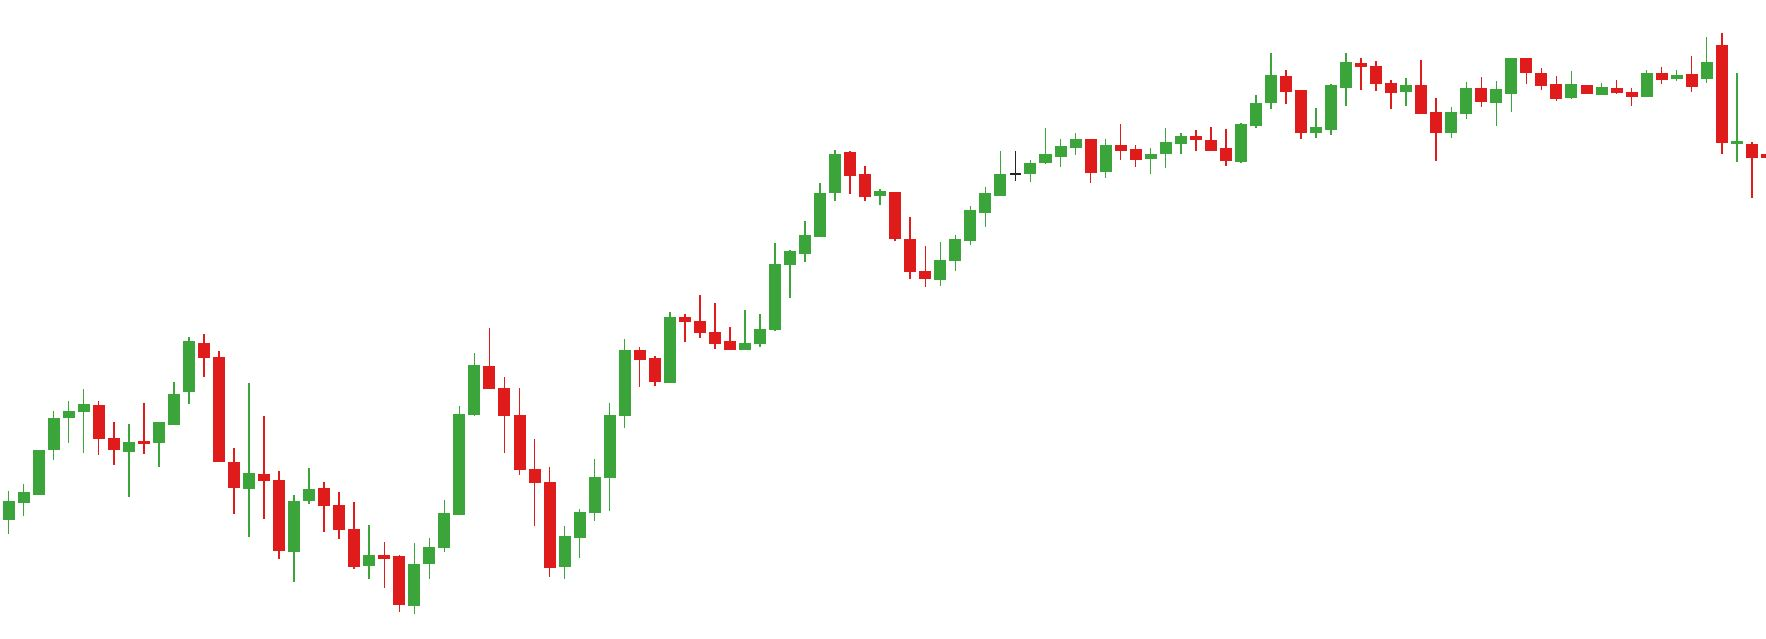buy: (1293, 83, 1459, 166)
